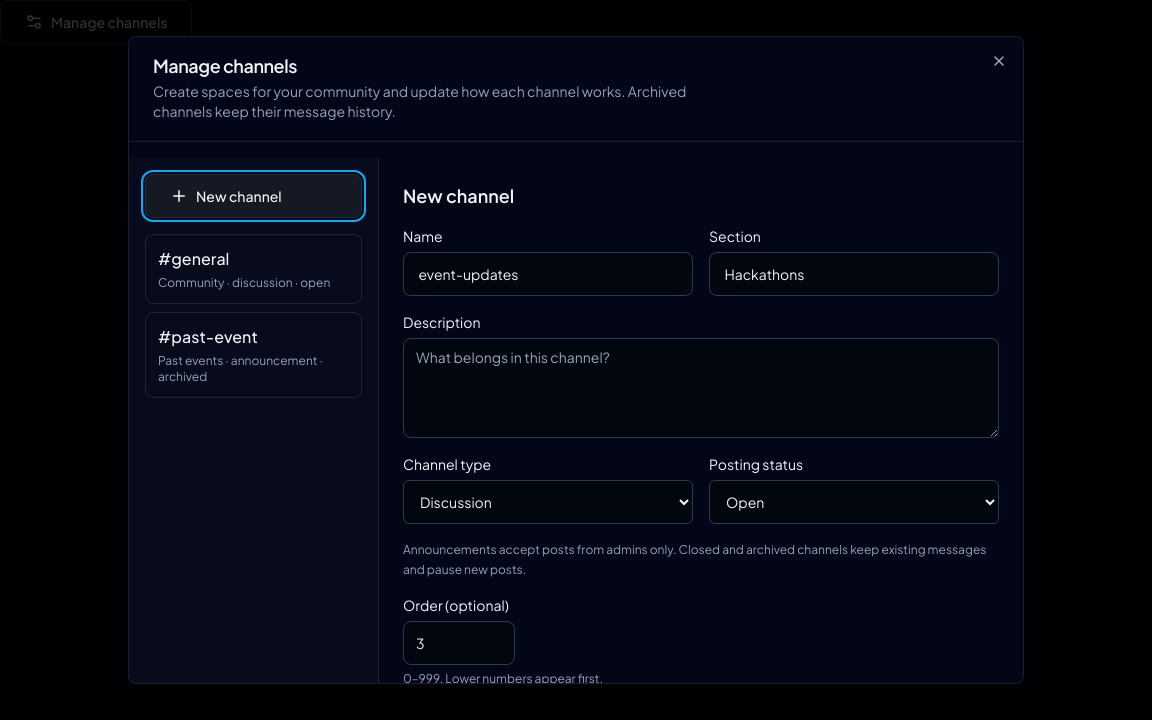
admin community channel management › creates a channel with its complete metadata and opens the confirmed result
Earlier steps of the test are not shown.
Type "Official event updates." into the text box labelled "Description" at [701, 388], box [403,338,999,438]
Select "Announcement" in the dropdown labelled "Channel type" at [548, 502], box [403,480,693,524]
Select "Closed" in the dropdown labelled "Posting status" at [854, 502], box [709,480,999,524]
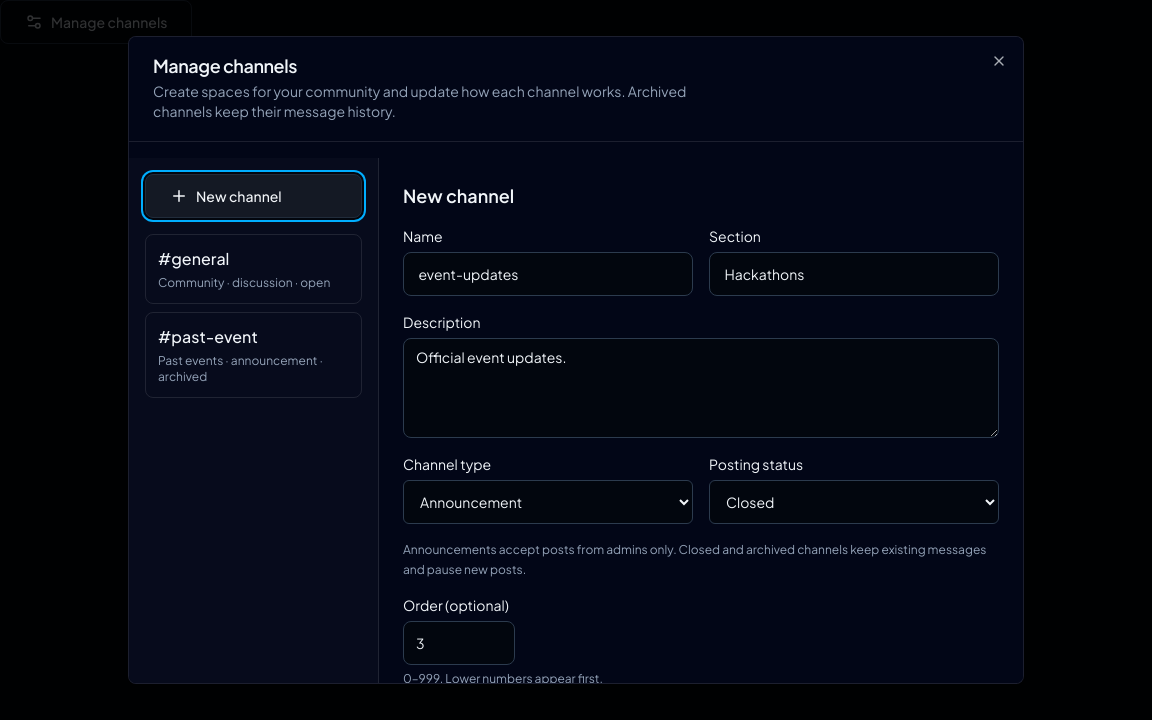
Replace the text in the number field labelled "Order (optional)" with "5" at [459, 643], box [403,621,515,665]
(page scrolled)
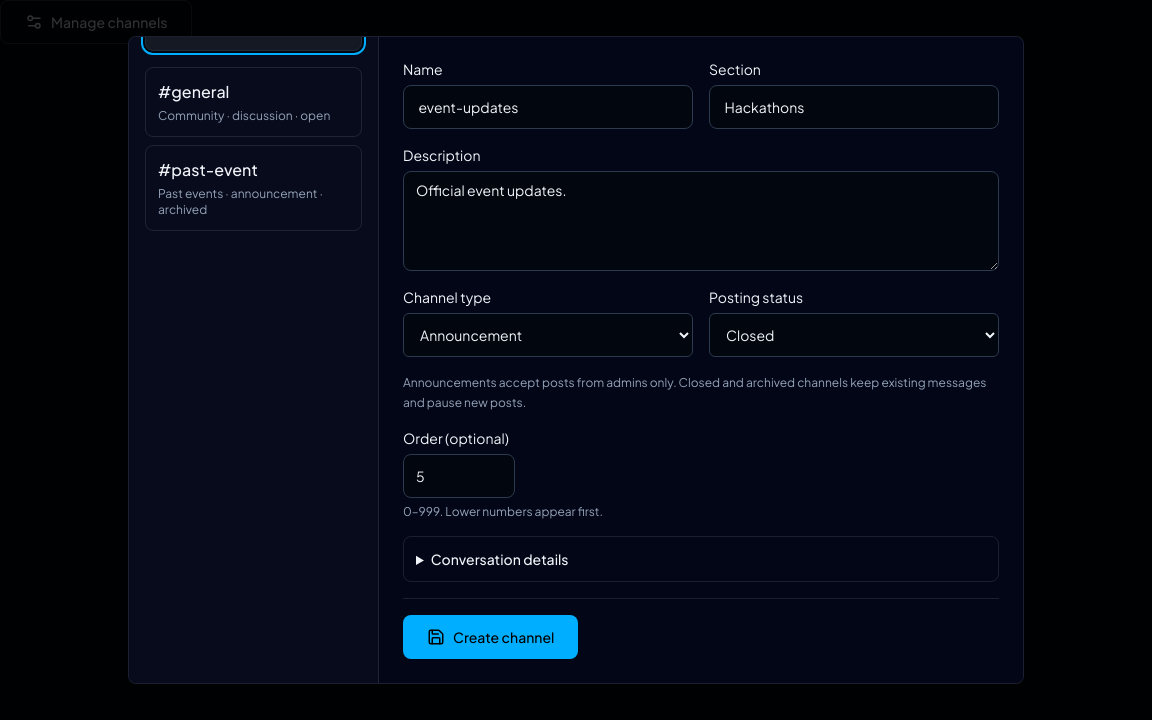
Click the heading "Conversation details" at [500, 559], box [431,550,568,568]
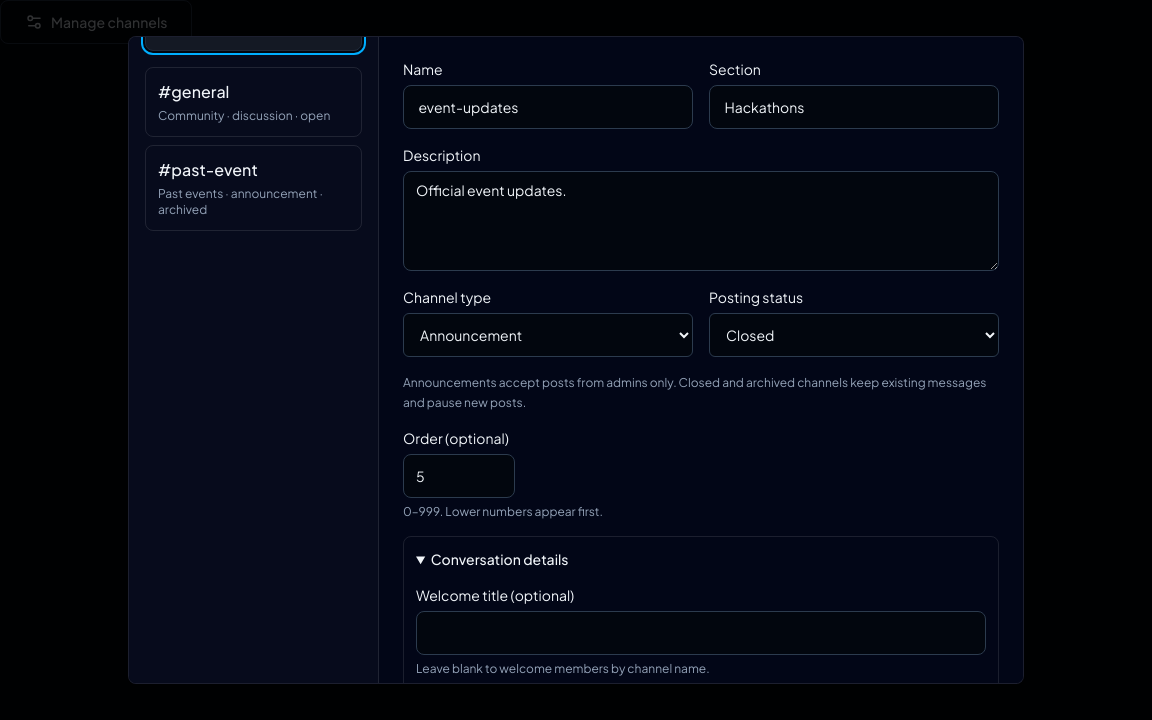
Type "Important updates" into the field labelled "Welcome title (optional)" at [701, 633], box [416,611,986,655]
(page scrolled)
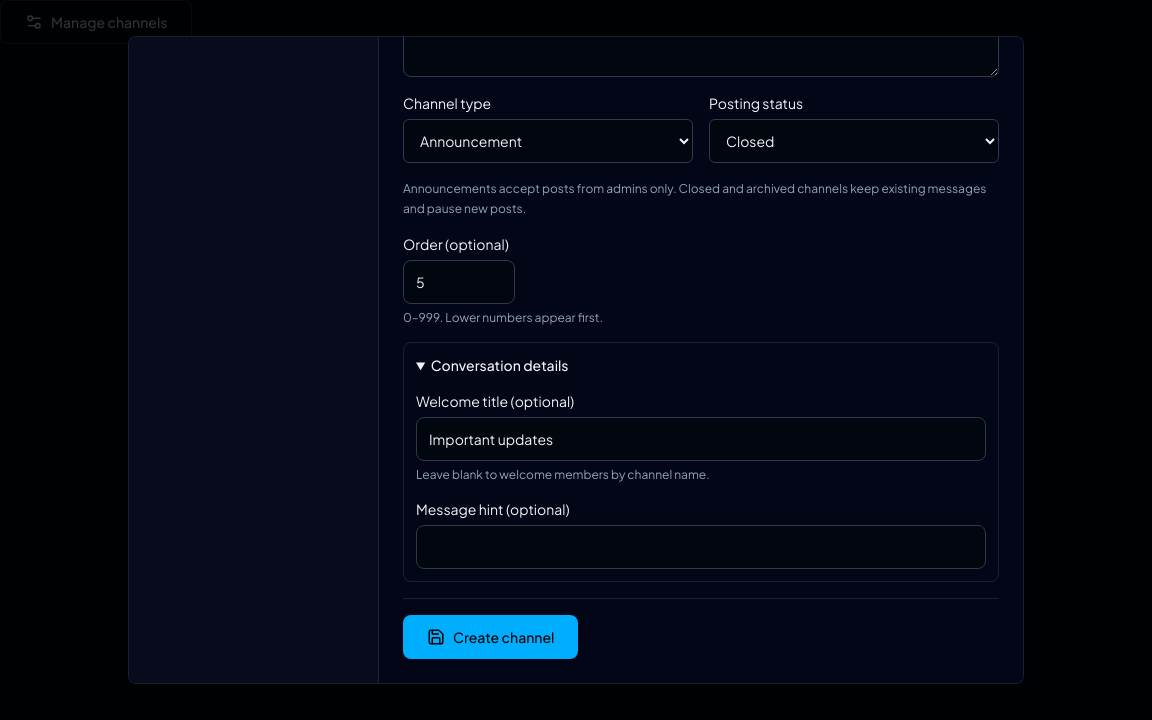
Type "Share an update" into the field labelled "Message hint (optional)" at [701, 547], box [416,525,986,569]
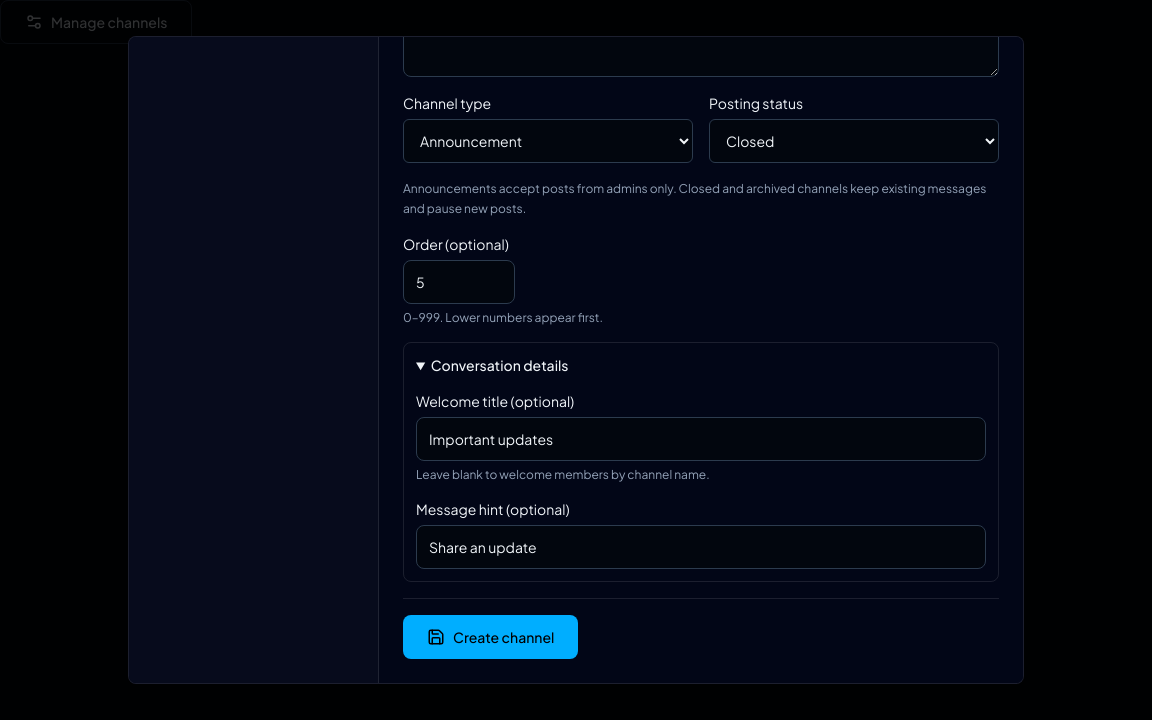
Click the button "Create channel" at [491, 637], box [403,615,578,659]
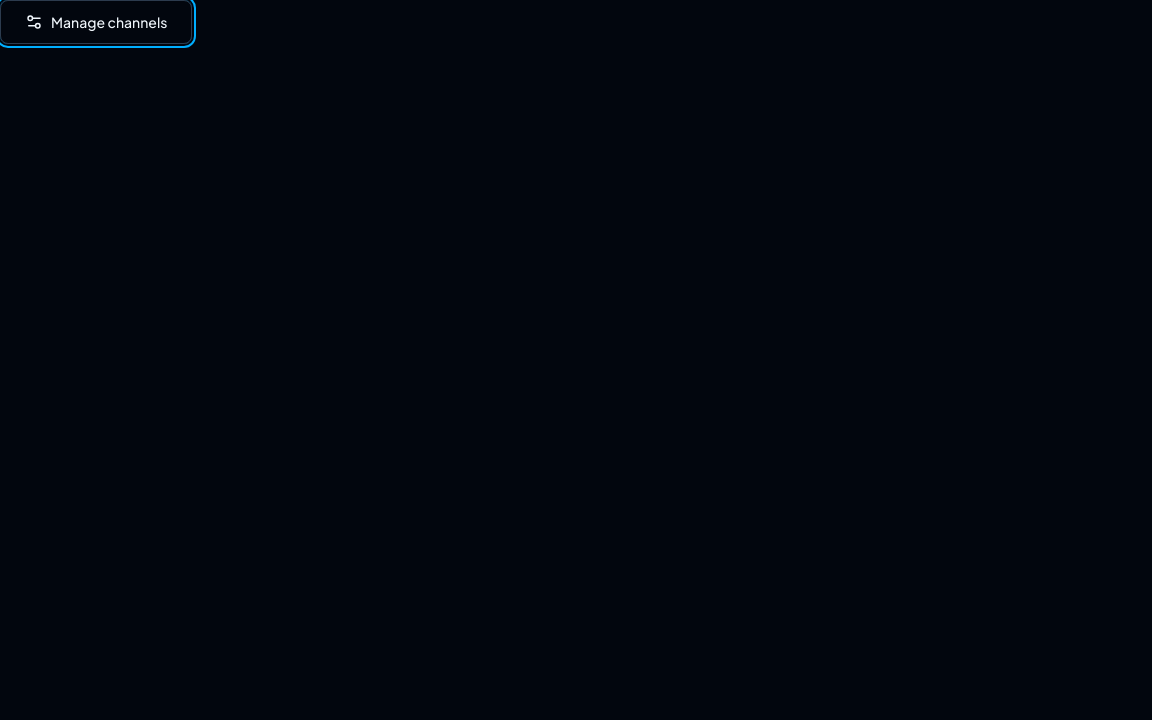
Now the dialog is gone
